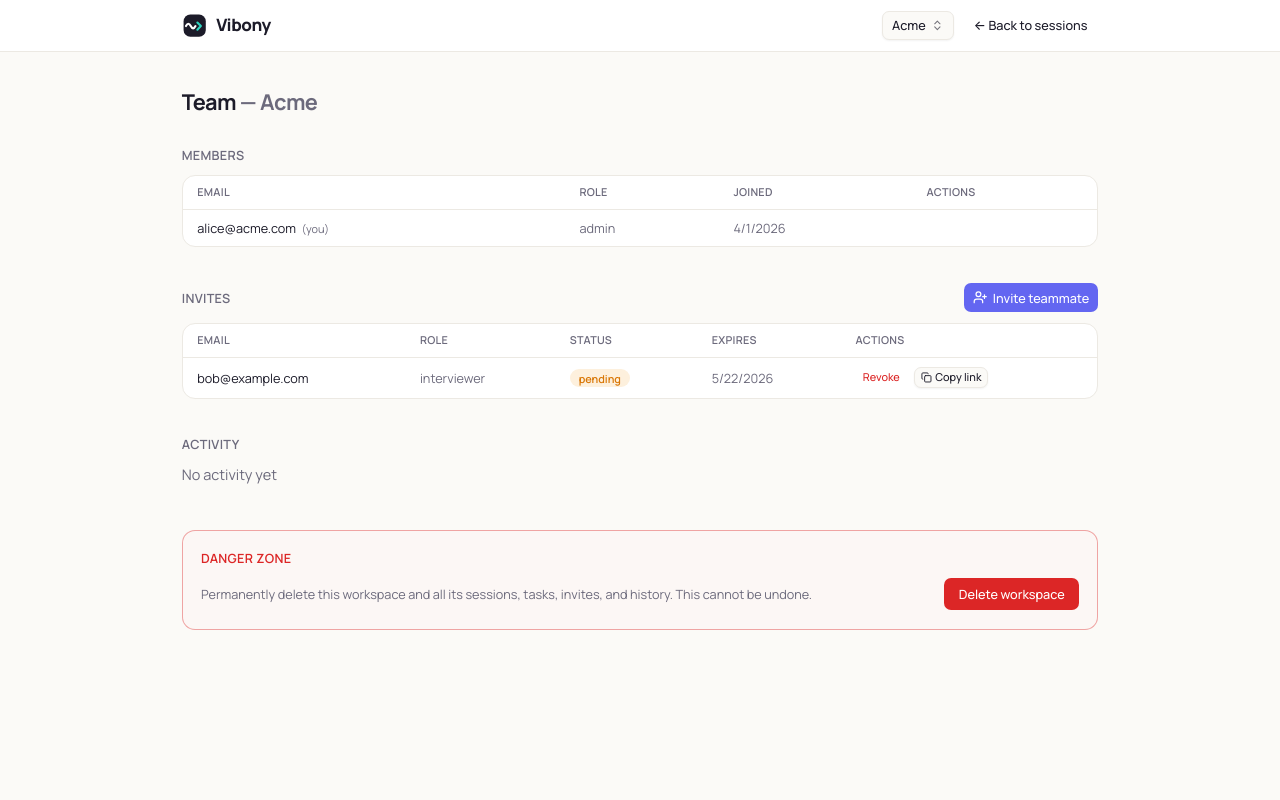
it: TeamPage › invite modal opens and submits
This screenshot has width=1280, height=800.
Step 1. Click the button with test id "invite-button" → (1031, 298), box x1=964 y1=283 x2=1098 y2=312
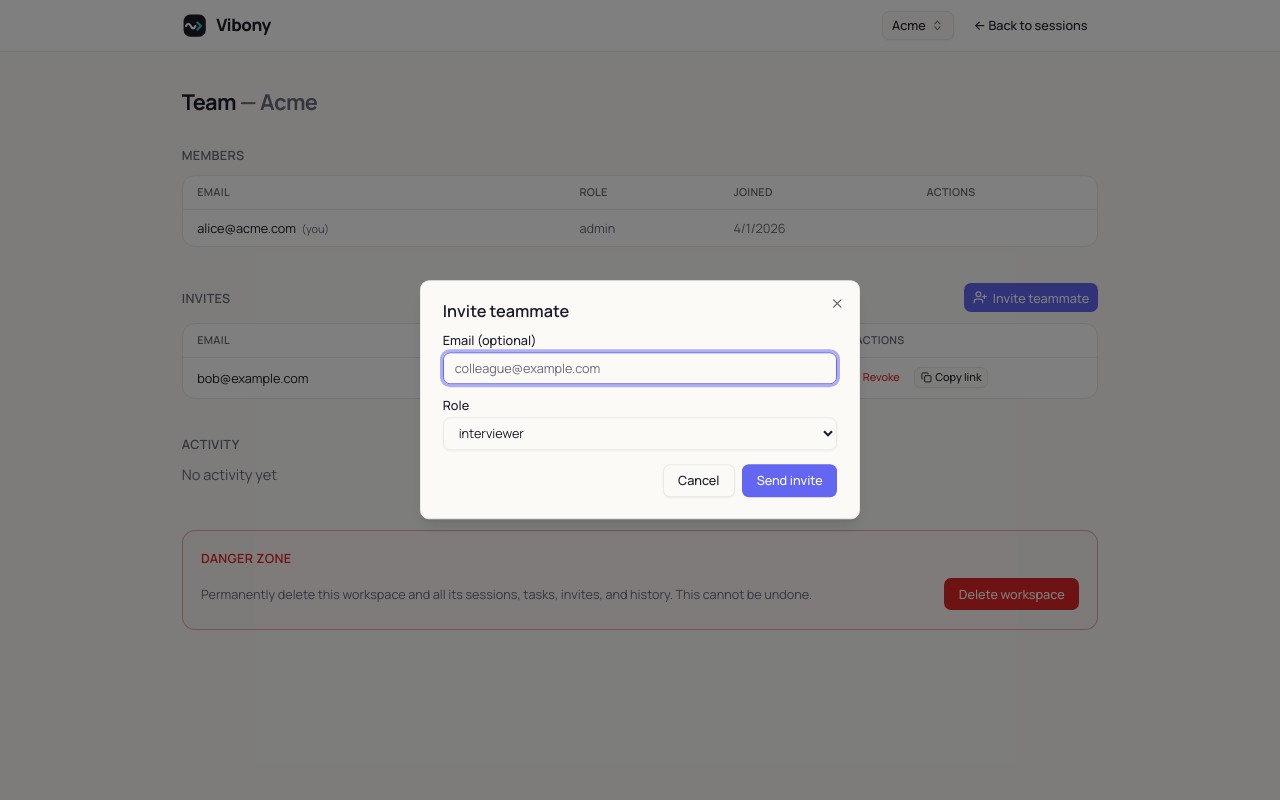
Expected: the dialog with test id "invite-modal" is shown, x1=420 y1=280 x2=860 y2=520
Step 2. Type "newbie@example.com" into the field with test id "invite-email-input" → (640, 368), box x1=443 y1=352 x2=837 y2=385
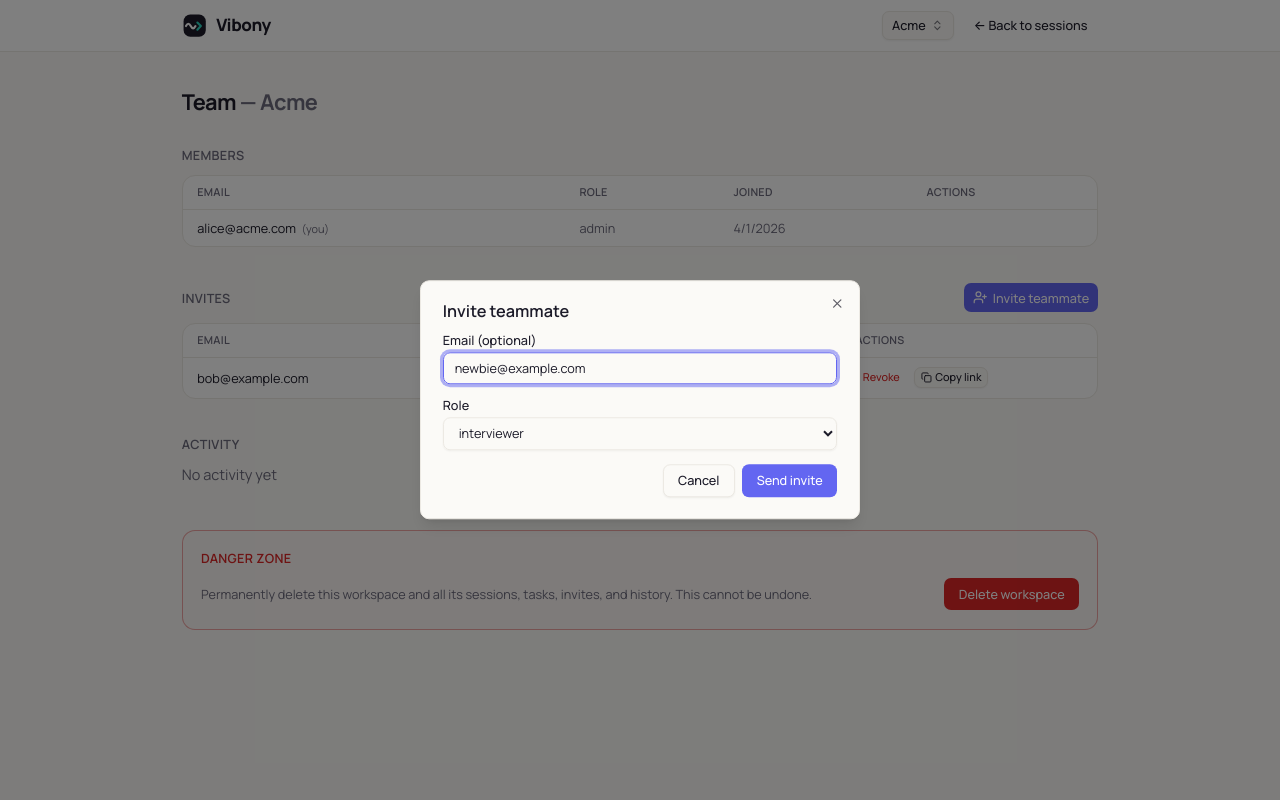
Step 3. Submit the form with test id "invite-form", box x1=443 y1=334 x2=837 y2=497
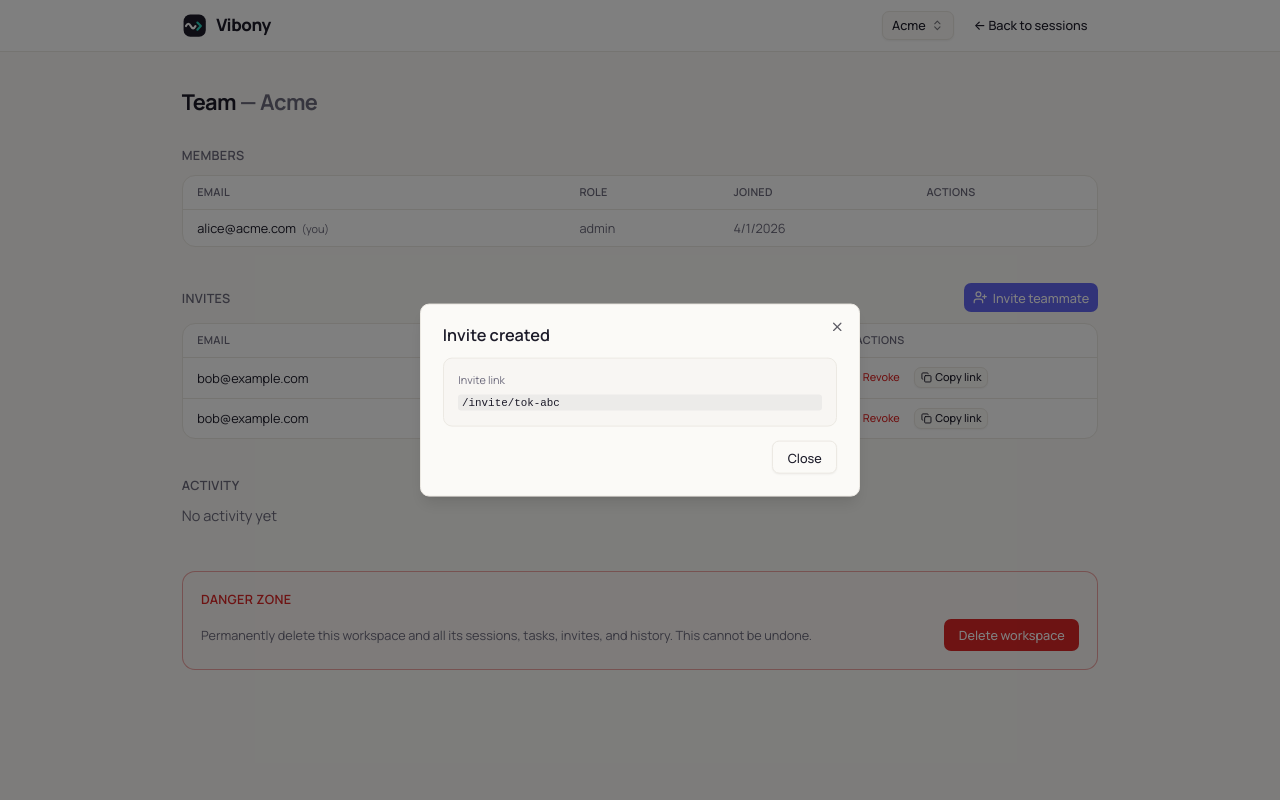
Expected: the text "/invite/tok-abc" is shown, x1=458 y1=394 x2=822 y2=411
